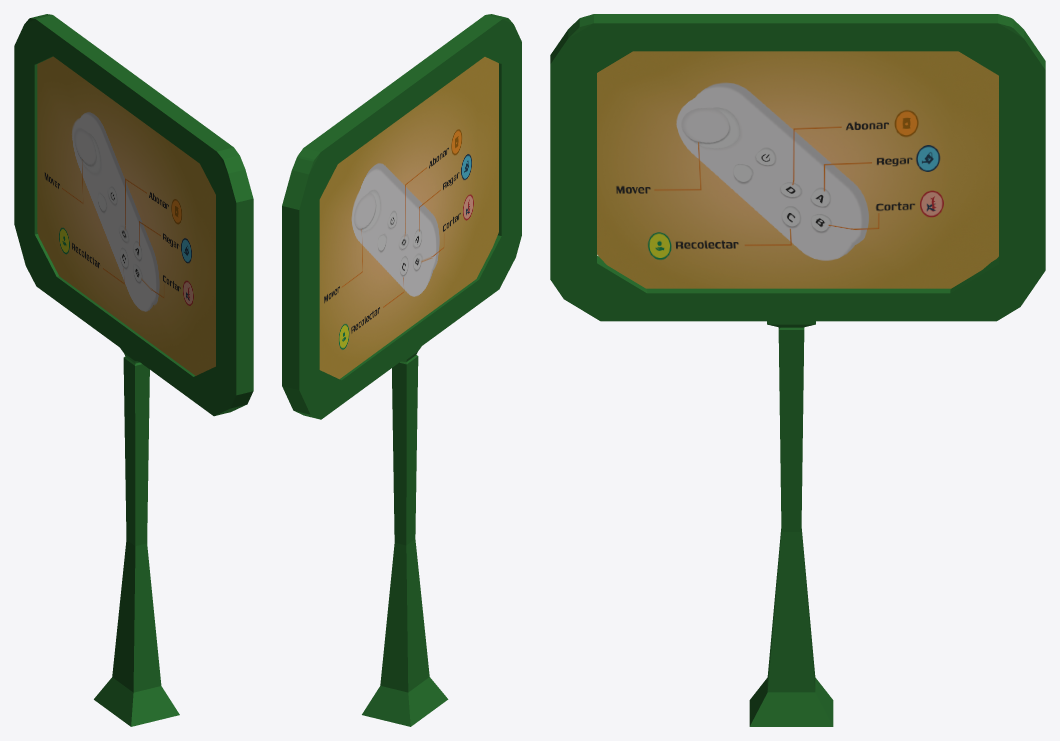
File: cartel_con_simbolos.fbx
The picture shows the model from 3 angles, left to right: view 1: azimuth 30°, elevation 25°; view 2: azimuth 150°, elevation 25°; view 3: azimuth 270°, elevation 25°; orthographic projection. The views are drawn at different scales.
Visible parts, largest first — view 1: Cube.005; view 2: Cube.005; view 3: Cube.005.
Boxes of the visible parts, box(x1,y1,x2,y2) form: Cube.005: box(14, 14, 253, 726); Cube.005: box(282, 14, 521, 726); Cube.005: box(550, 14, 1045, 726).
Size of the model in its own units: 13.79 by 168 by 108.
2 materials, 1 textured.
